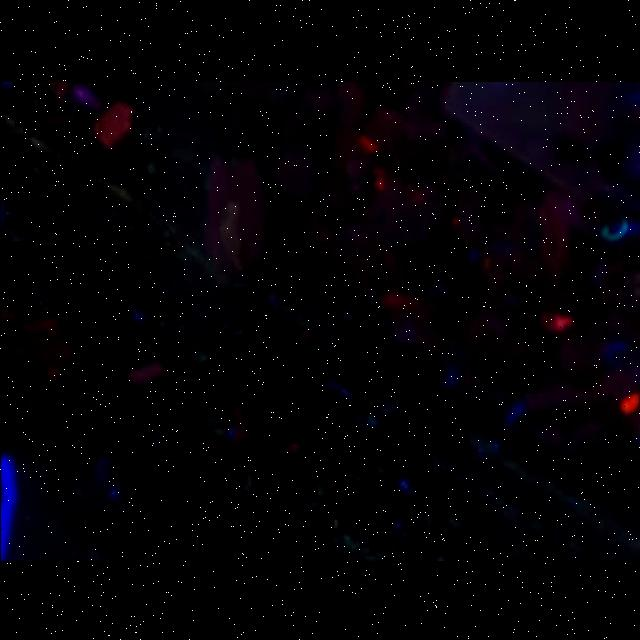Fragment: (94, 100, 133, 143)
